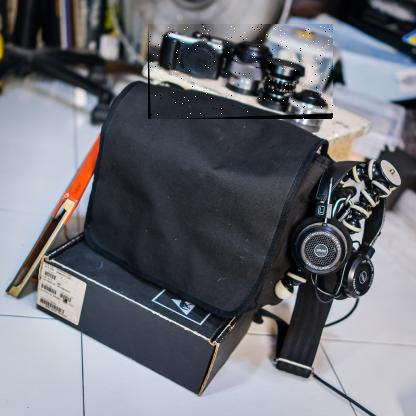Camera: (149, 25, 335, 121)
